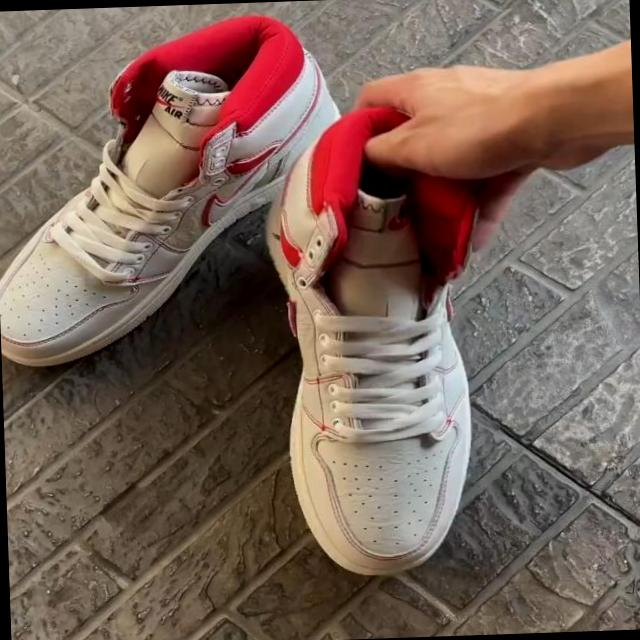nike_fake_jordan: (0, 8, 349, 365), (264, 51, 487, 577)
